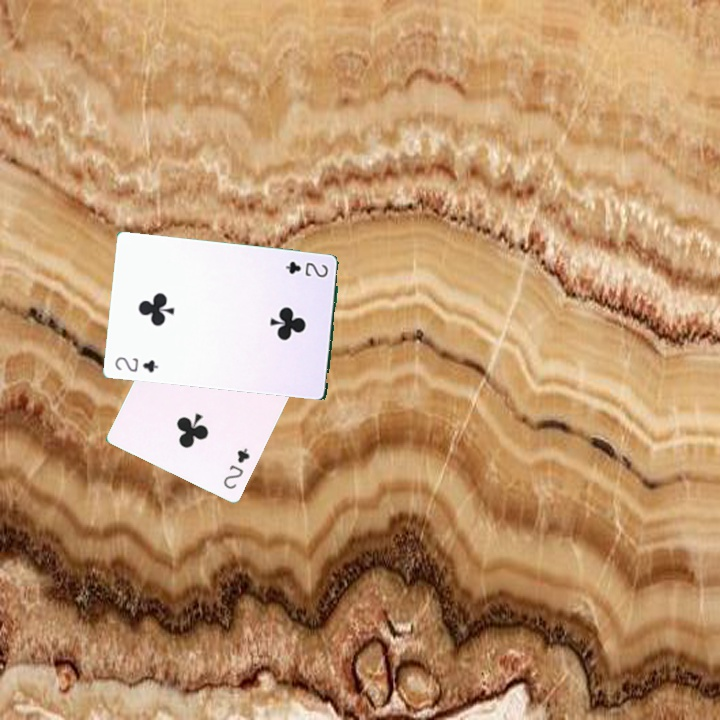2c: (219, 444, 252, 492), (111, 353, 161, 375), (281, 258, 331, 280)
